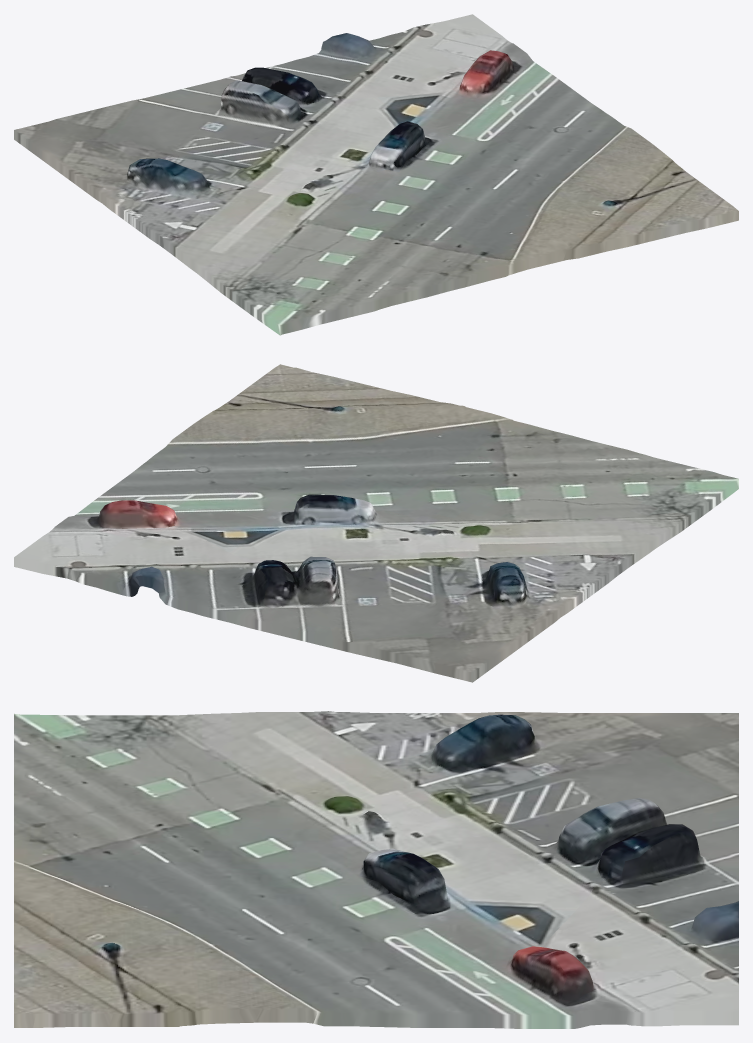
Rendered from z20-167783-405214-h0-yup-uvflip-v3-world.glb.
The picture shows the model from 3 angles, top to bottom: view 1: azimuth 30°, elevation 25°; view 2: azimuth 150°, elevation 25°; view 3: azimuth 270°, elevation 25°; orthographic projection. The views are drawn at different scales.
Size of the model in its own units: 30.16 by 2.44 by 30.32.
Materials: 1 (1 with a texture image).
